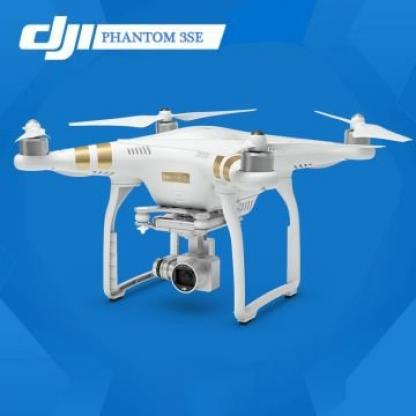drone: (11, 91, 416, 224)
